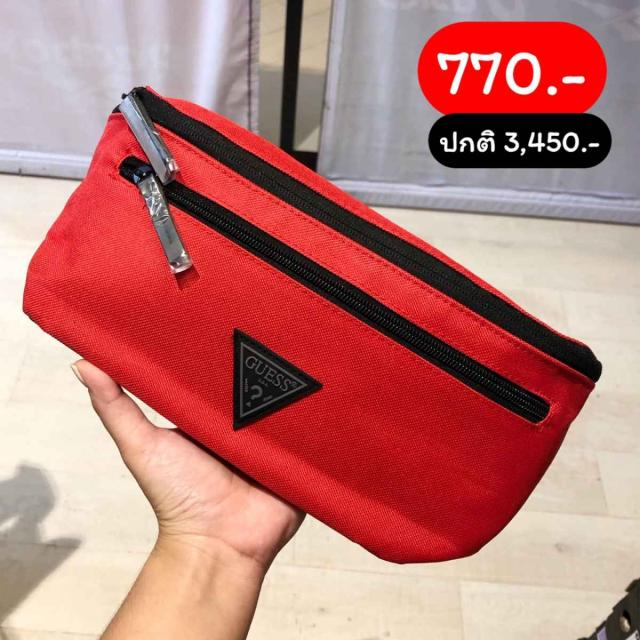bag: (32, 43, 614, 597)
